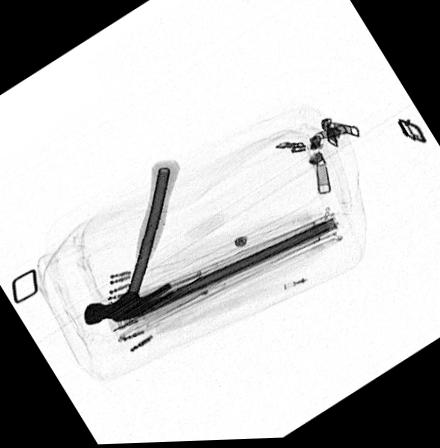Hammer: (83, 159, 180, 326)
